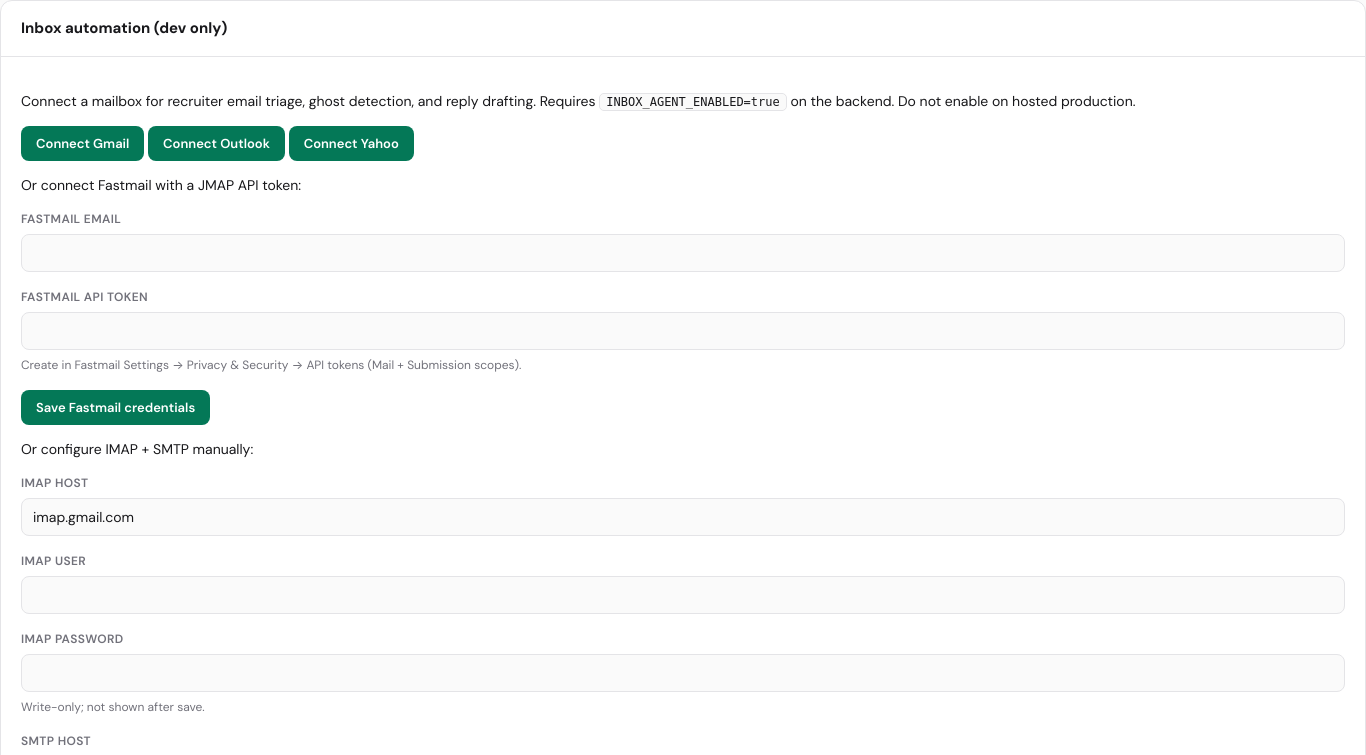
Test case: SettingsInboxCard › Connect Gmail › shows an error on failure
This screenshot has width=1366, height=755.
Step 1. Click the button "Connect Gmail" → [83, 143], box [21,126,144,160]
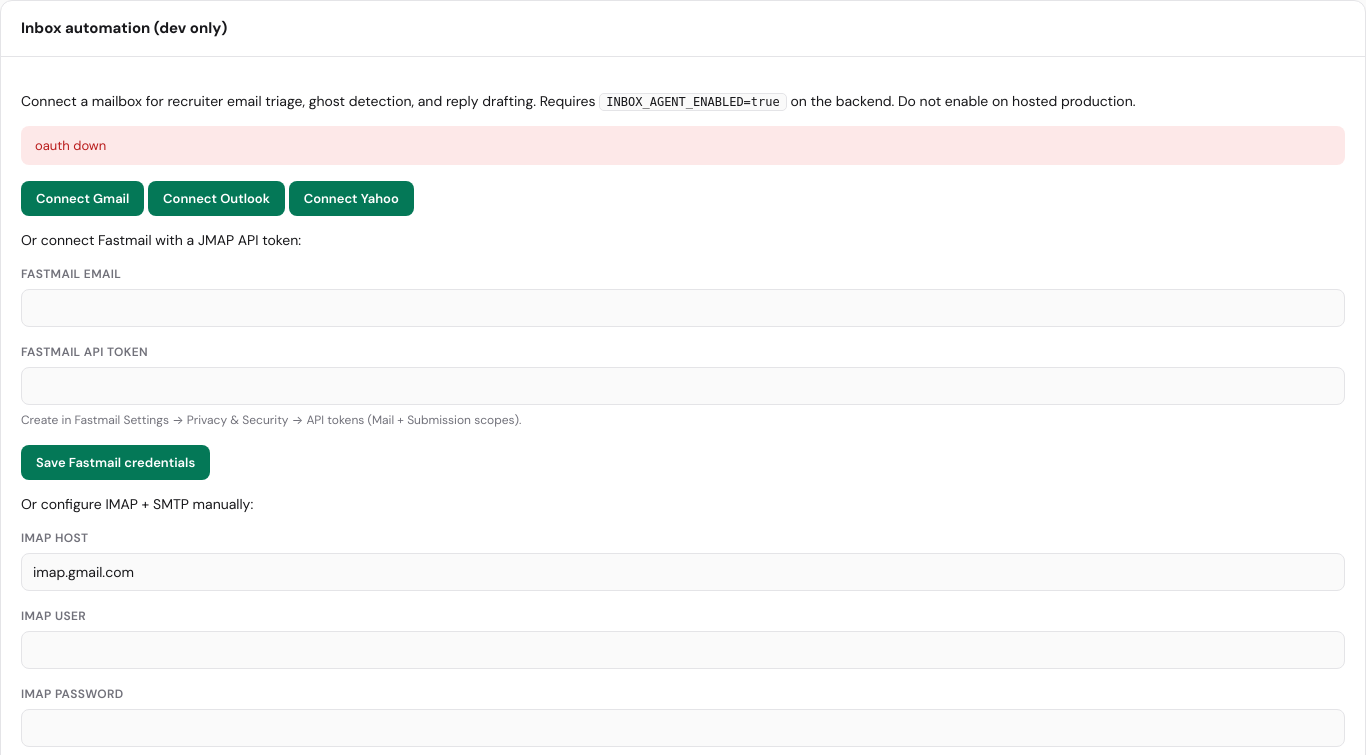
Check: the text "oauth down" is shown, box [21,126,1345,165]
